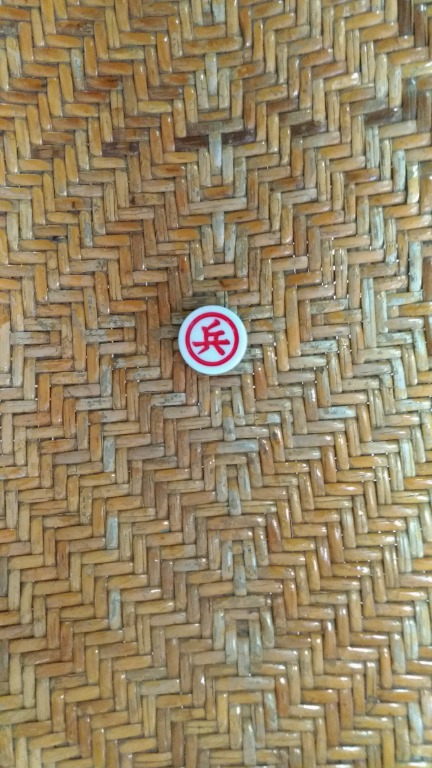r-pawn: (173, 299, 253, 384)
